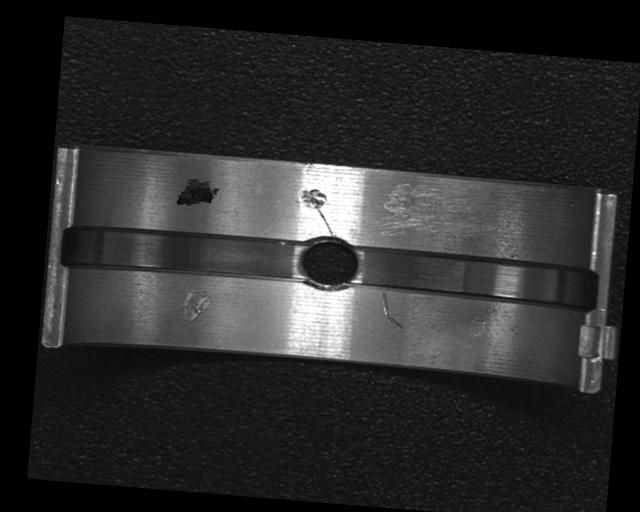blot: (174, 178, 220, 209)
bruise: (179, 287, 213, 327), (298, 188, 330, 211)
gap: (61, 219, 304, 289), (354, 244, 598, 313)
hole: (296, 230, 363, 295)
nick: (378, 292, 407, 329), (311, 204, 338, 238)
scratch: (380, 182, 502, 248)
